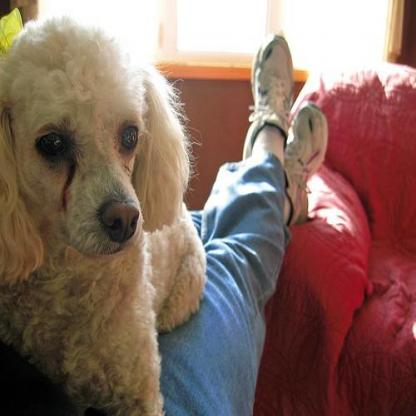miniature_poodle: (0, 12, 209, 414)
